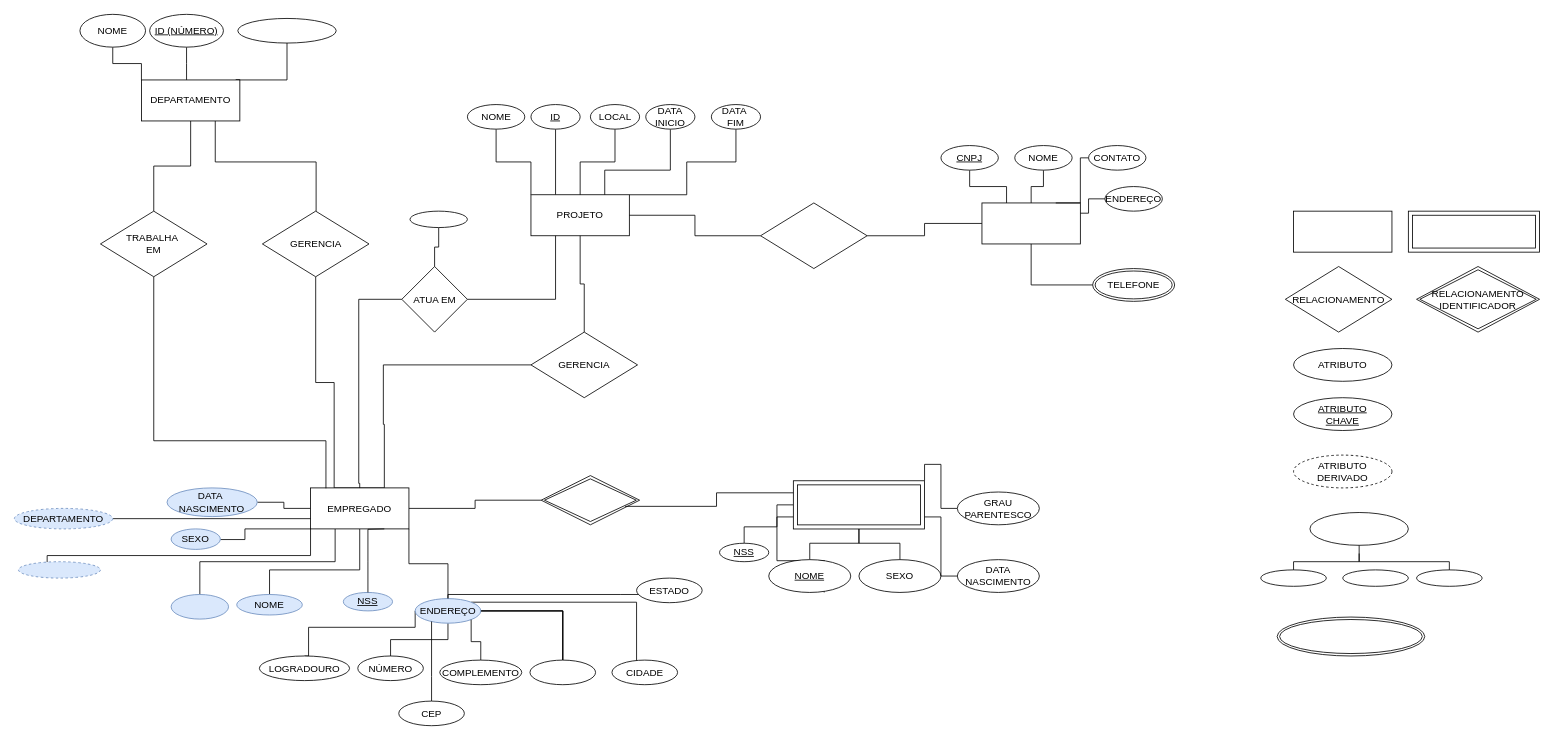
Some shapes in this 1554 by 740 pixel diagram are drawn without their labels. Each missing label, with the box of its shape:
% HORAS: (409, 210, 467, 228)
ATRIBUTO COMPOSTO: (1309, 512, 1408, 545)
ATRIBUTO MULTIVALORADO: (1276, 616, 1425, 656)
BAIRRO: (529, 659, 596, 685)
CLIENTES: (981, 202, 1080, 244)
DATA INICIO DO GERENTE: (237, 18, 336, 43)
DEPENDENTE: (793, 480, 925, 529)
IDADE: (18, 561, 100, 578)
POSSUI: (760, 202, 867, 269)
SALÁRIO: (170, 594, 229, 619)
TEM: (540, 475, 640, 525)
TIPO DE ENTIDADE: (1293, 210, 1392, 252)
TIPO DE ENTIDADE FRACA: (1408, 210, 1540, 252)
